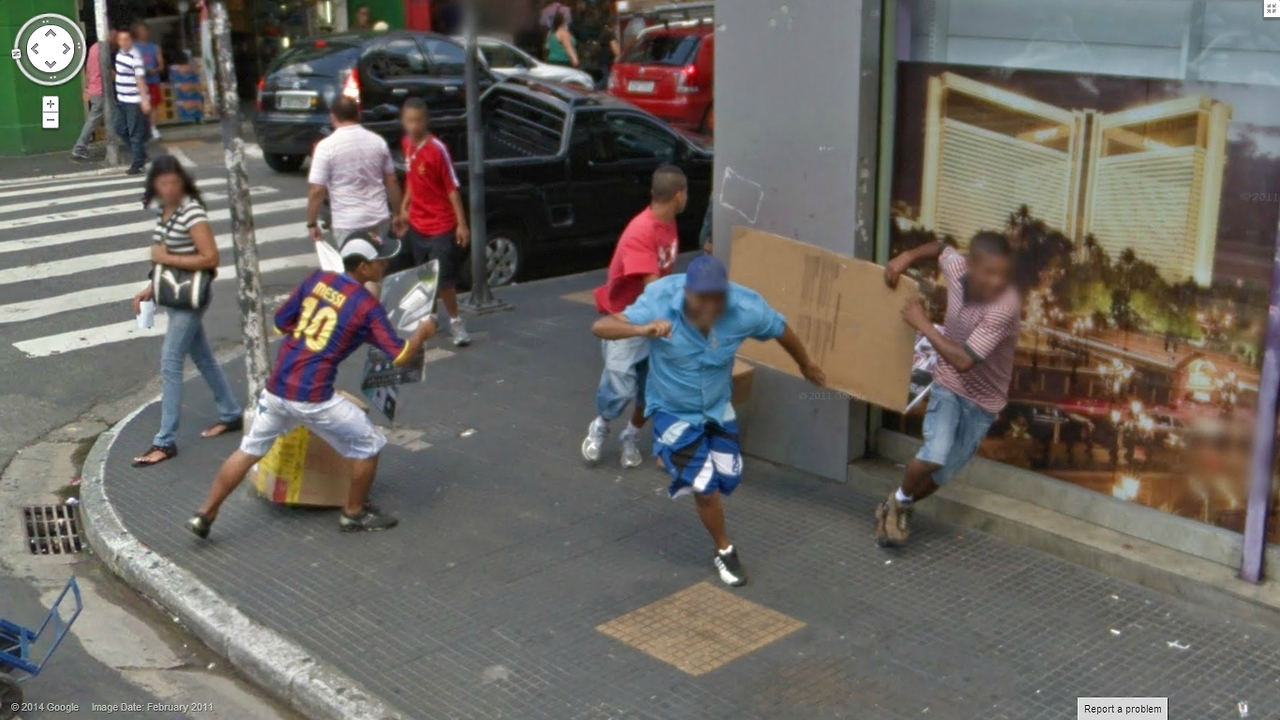people: (197, 237, 413, 526), (606, 258, 791, 578), (891, 237, 1020, 537), (135, 158, 249, 453), (604, 169, 691, 460), (397, 95, 471, 346), (313, 95, 398, 277), (113, 33, 153, 166), (538, 2, 577, 67)
